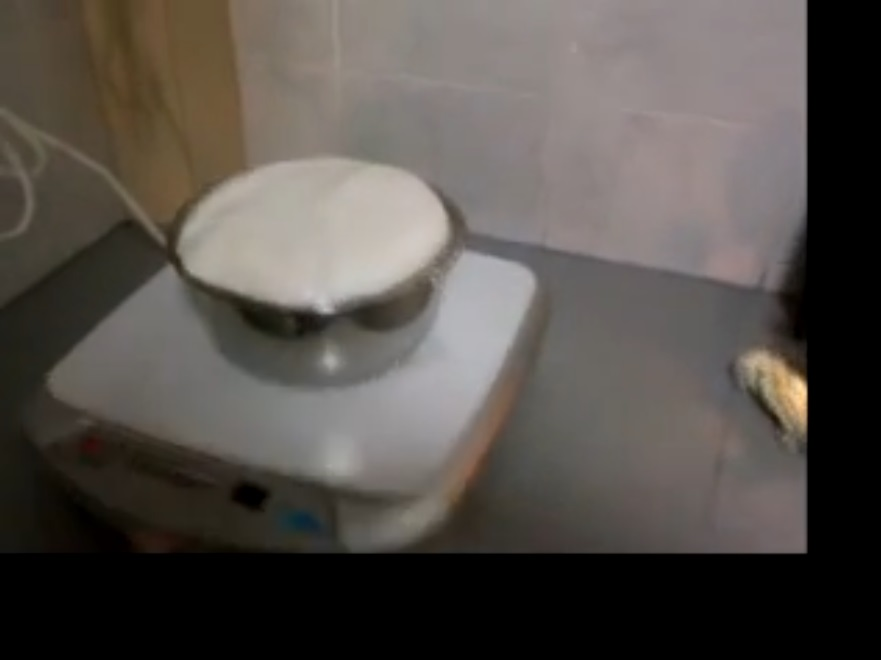Boiled: (114, 151, 507, 427)
